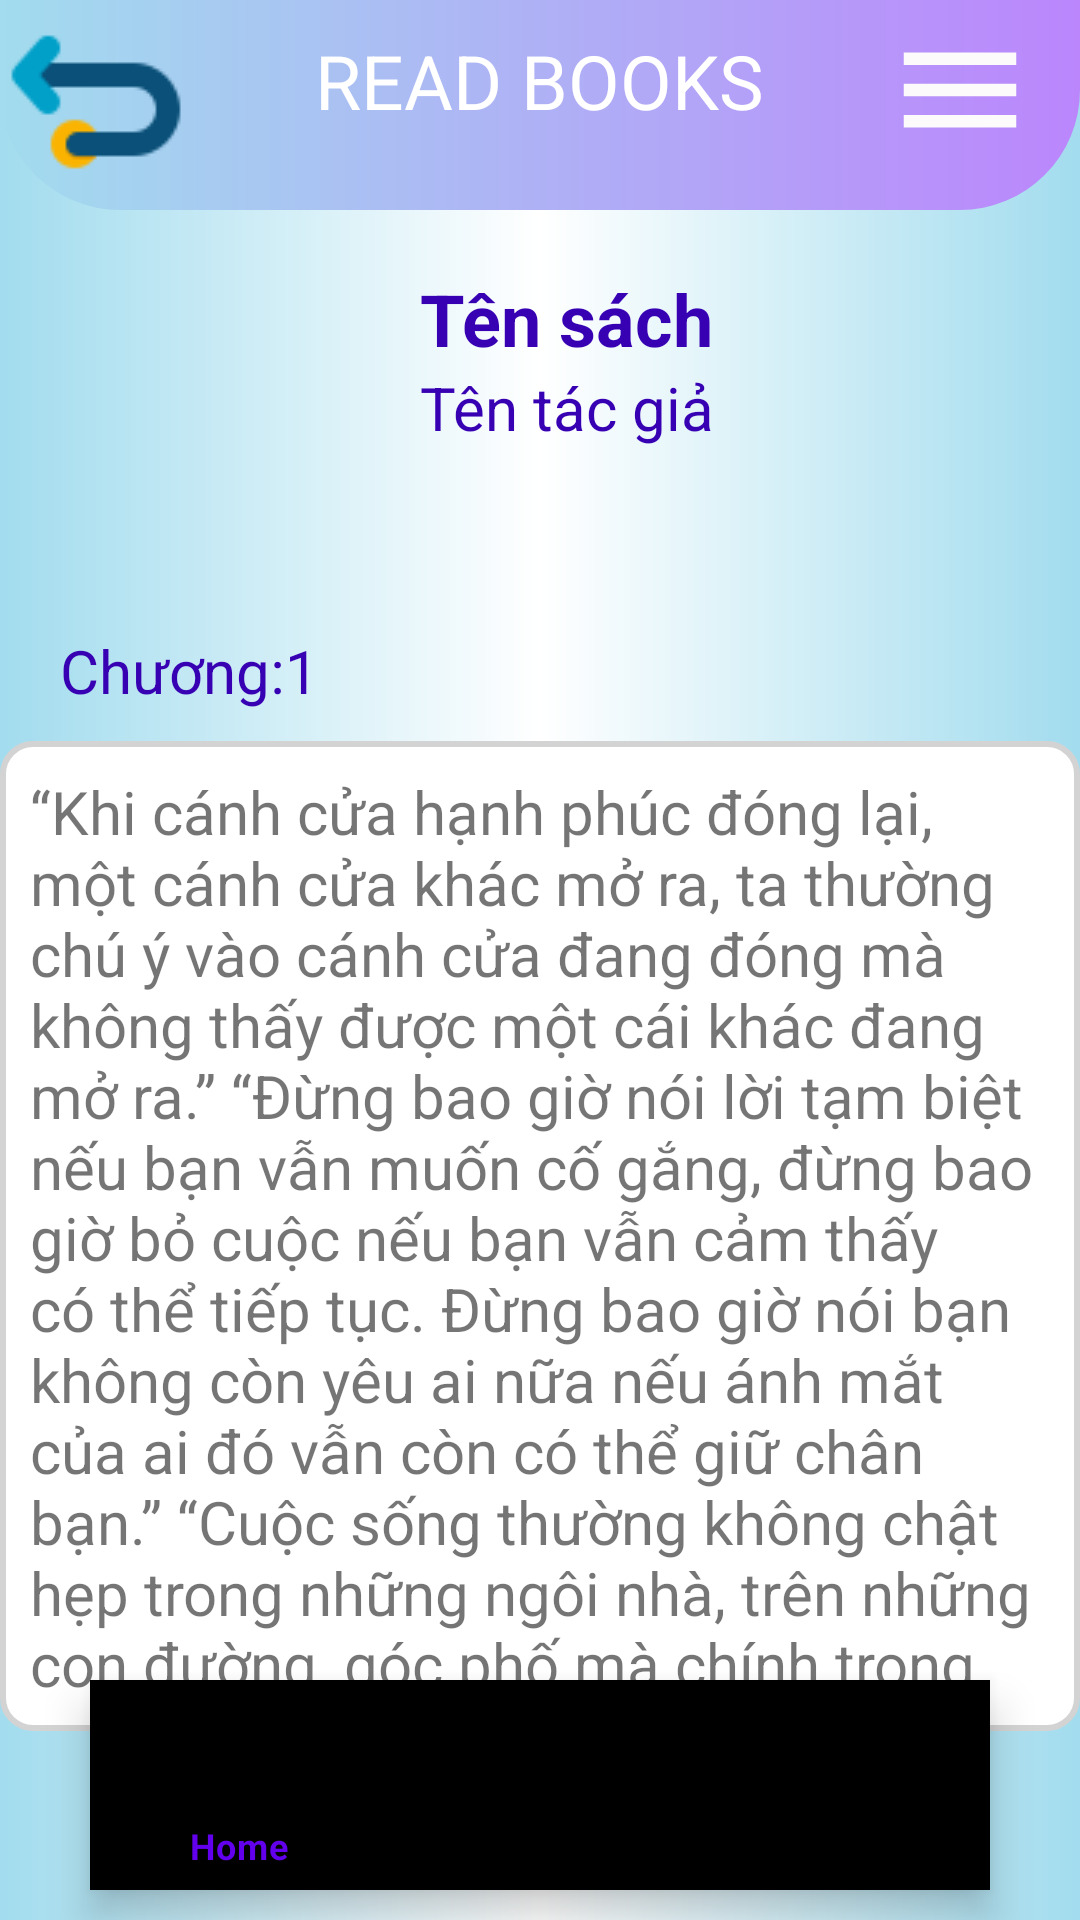

Named icons in this screenshot (1080 × 1920) and their centers, (x,y):
menu: (960,90)
return: (96,102)
